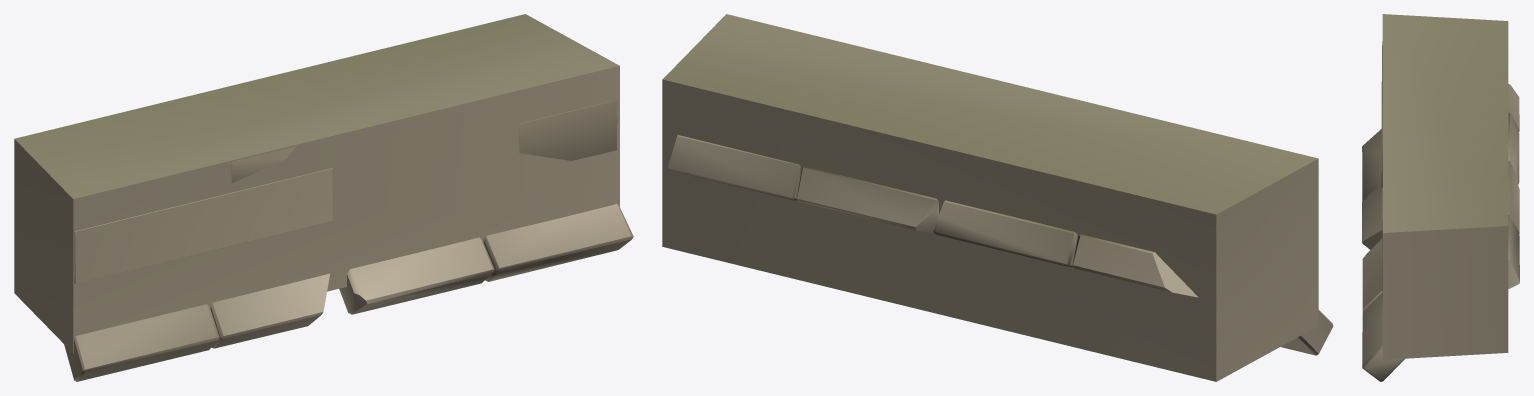
The model's file is arena_vault_broken_b.glb.
3 views of the same model, side by side, from view 1: azimuth 30°, elevation 25°; view 2: azimuth 150°, elevation 25°; view 3: azimuth 270°, elevation 25° (orthographic). The views are drawn at different scales.
Visible parts, largest first — view 1: arena_vault_broken_b_far, arena_vault_broken_b; view 2: arena_vault_broken_b_far, arena_vault_broken_b; view 3: arena_vault_broken_b_far, arena_vault_broken_b.
Part boxes in pixels (x1,y1,x2,y2): arena_vault_broken_b_far: (14, 14, 619, 353); arena_vault_broken_b: (64, 100, 633, 381); arena_vault_broken_b_far: (662, 14, 1318, 381); arena_vault_broken_b: (667, 135, 1333, 355); arena_vault_broken_b_far: (1382, 14, 1508, 359); arena_vault_broken_b: (1362, 41, 1519, 381).
Size of the model in its own units: 18.67 by 5.92 by 5.64.
